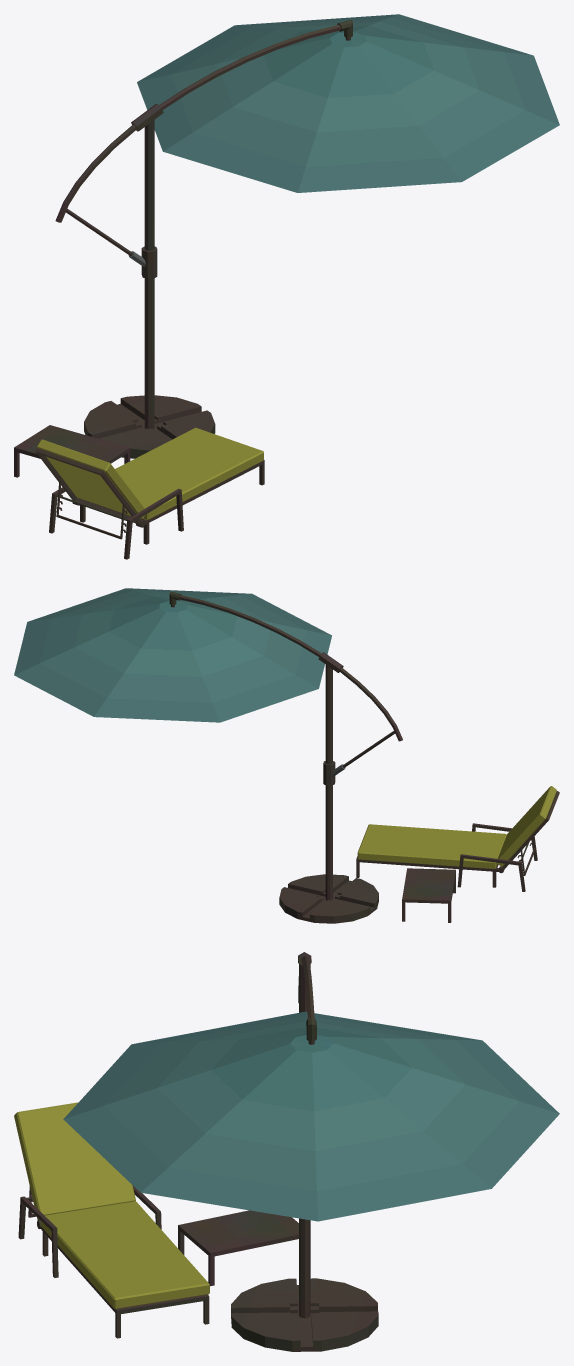
File: tumbona.glb
3 views of the same model, one above another, from view 1: azimuth 30°, elevation 25°; view 2: azimuth 150°, elevation 25°; view 3: azimuth 270°, elevation 25° (orthographic). The views are drawn at different scales.
Parts seen in each view (by area): view 1: PatioFurniture; view 2: PatioFurniture; view 3: PatioFurniture.
Part boxes in pixels (x1=…): PatioFurniture: x1=14, y1=14, x2=559, y2=559; PatioFurniture: x1=14, y1=588, x2=559, y2=923; PatioFurniture: x1=14, y1=952, x2=559, y2=1351.
Bounding box in the file's own units: 5.3 × 3.08 × 3.71.
Materials: 1 (1 with a texture image).
